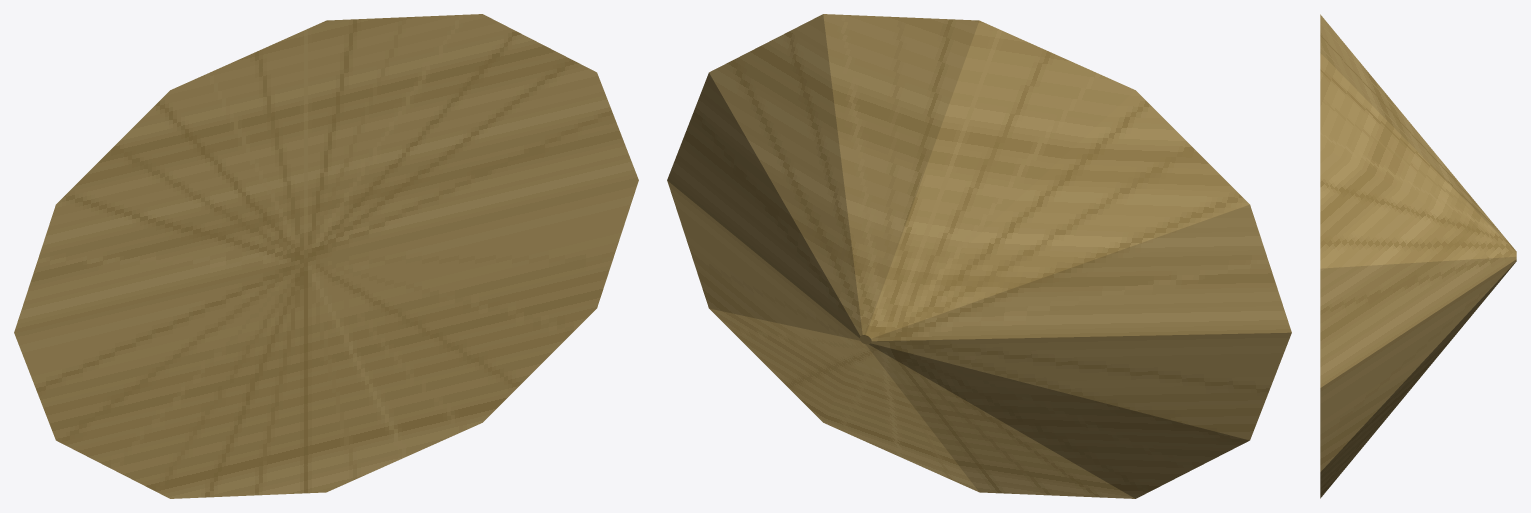
File: rice_hat_plain.glb
3 views of the same model, side by side, from view 1: azimuth 30°, elevation 25°; view 2: azimuth 150°, elevation 25°; view 3: azimuth 270°, elevation 25° (orthographic). The views are drawn at different scales.
Visible parts, largest first — view 1: rice_hat_plain; view 2: rice_hat_plain; view 3: rice_hat_plain.
Part boxes in pixels (x1=…): rice_hat_plain: x1=14, y1=14, x2=638, y2=498; rice_hat_plain: x1=667, y1=14, x2=1291, y2=498; rice_hat_plain: x1=1320, y1=14, x2=1516, y2=498.
Bounding box in the file's own units: 0.4973 × 0.359 × 0.1568.
1 material, 1 textured.
